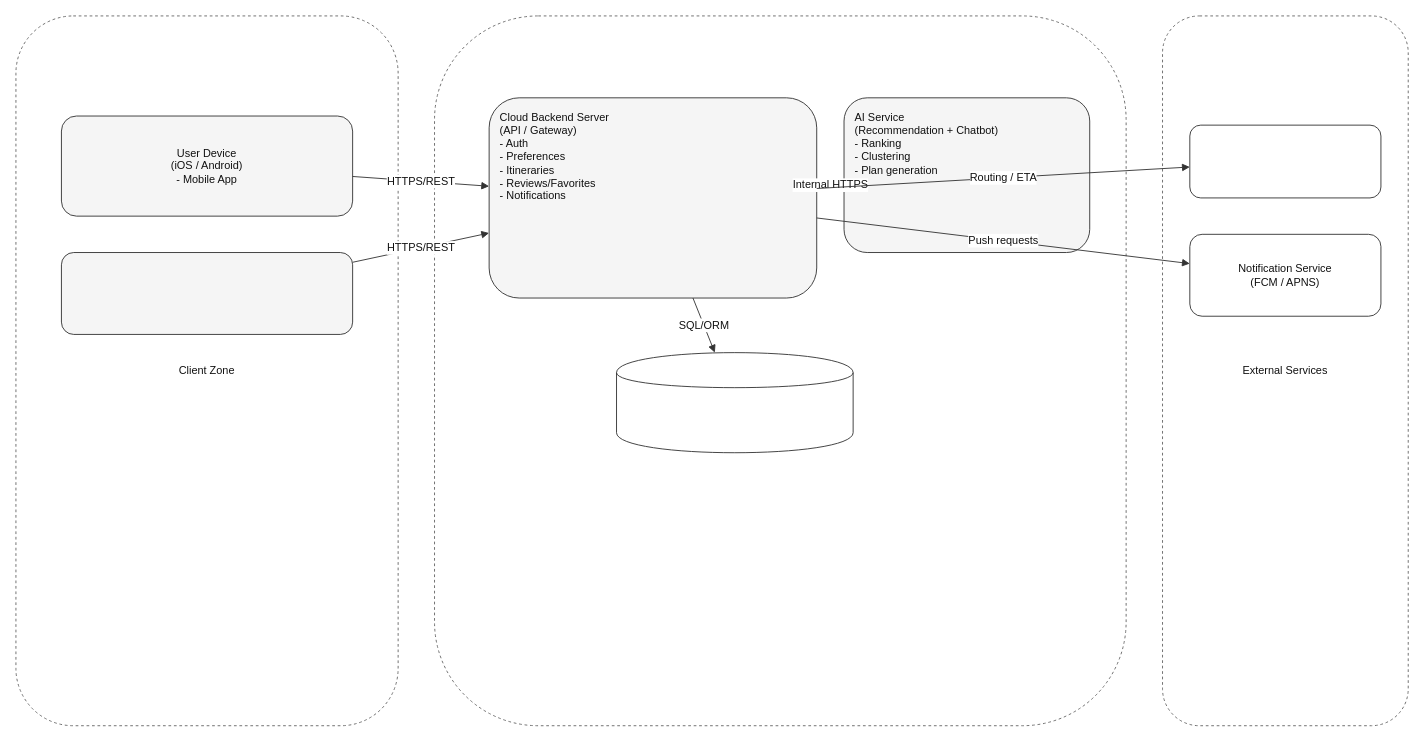
This 1424x742 diagram has some shape labels left out. Each missing label, with the centre of its shape:
"Managed Database (RDBMS) - Users - Content - Trips/History" belongs at point 734,402.
"Maps API (Google Maps)" belongs at point 1285,161.
"Web Browser - Web App (SPA)" belongs at point 207,293.
